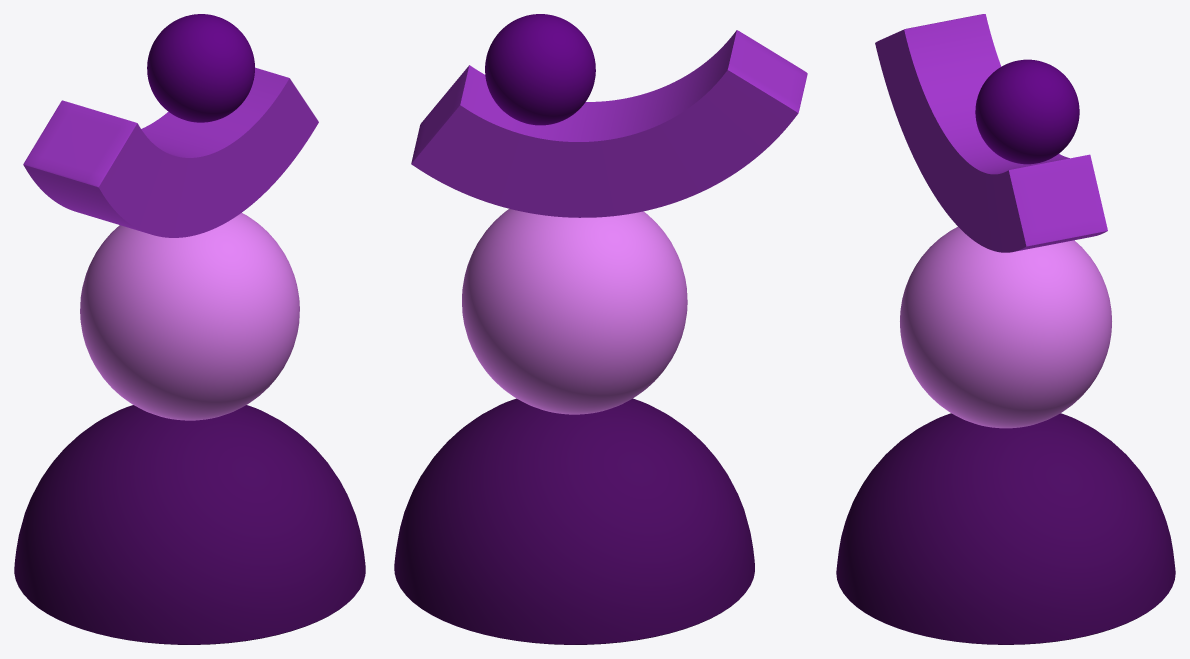
Rendered from MuzaPay_WEB_3.glb.
The picture shows the model from 3 angles, left to right: view 1: azimuth 30°, elevation 25°; view 2: azimuth 150°, elevation 25°; view 3: azimuth 270°, elevation 25°; orthographic projection. The views are drawn at different scales.
Visible parts, largest first — view 1: Sphere.003, Sphere.004, Cylinder.002, Sphere.005; view 2: Sphere.003, Cylinder.002, Sphere.004, Sphere.005; view 3: Sphere.003, Sphere.004, Cylinder.002, Sphere.005.
Boxes of the visible parts, x1=… form: Sphere.003: x1=14, y1=405, x2=365, y2=644; Sphere.004: x1=80, y1=213, x2=299, y2=420; Cylinder.002: x1=23, y1=67, x2=318, y2=237; Sphere.005: x1=147, y1=14, x2=254, y2=122; Sphere.003: x1=394, y1=398, x2=754, y2=644; Cylinder.002: x1=411, y1=30, x2=807, y2=217; Sphere.004: x1=462, y1=209, x2=687, y2=414; Sphere.005: x1=485, y1=14, x2=595, y2=125; Sphere.003: x1=836, y1=413, x2=1175, y2=644; Sphere.004: x1=900, y1=227, x2=1111, y2=428; Cylinder.002: x1=875, y1=14, x2=1107, y2=252; Sphere.005: x1=975, y1=59, x2=1079, y2=164.
Size of the model in its own units: 0.681 by 1.02 by 0.6018.
